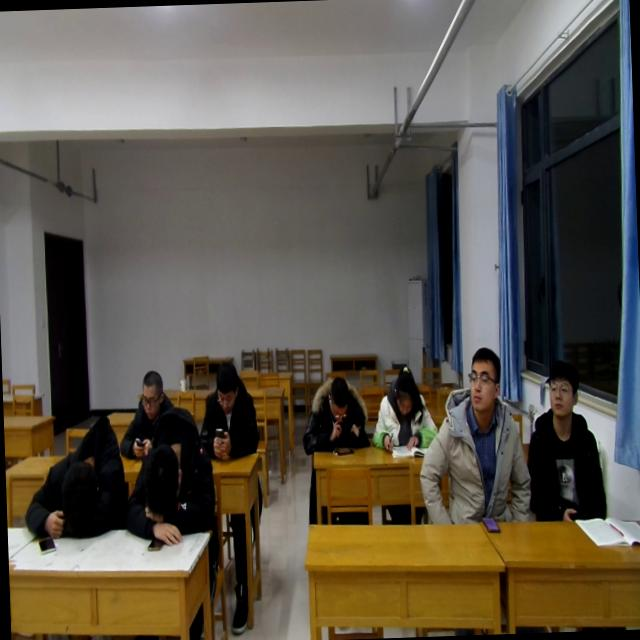bow: (24, 410, 126, 540), (122, 414, 218, 549)
down: (210, 356, 243, 417), (388, 359, 418, 424), (322, 368, 352, 423), (136, 367, 164, 419)
lookup: (465, 338, 504, 412), (542, 356, 580, 420)
sit: (414, 347, 530, 529), (524, 358, 609, 523), (196, 354, 262, 466), (299, 366, 372, 458), (367, 369, 438, 456), (119, 366, 182, 454)
